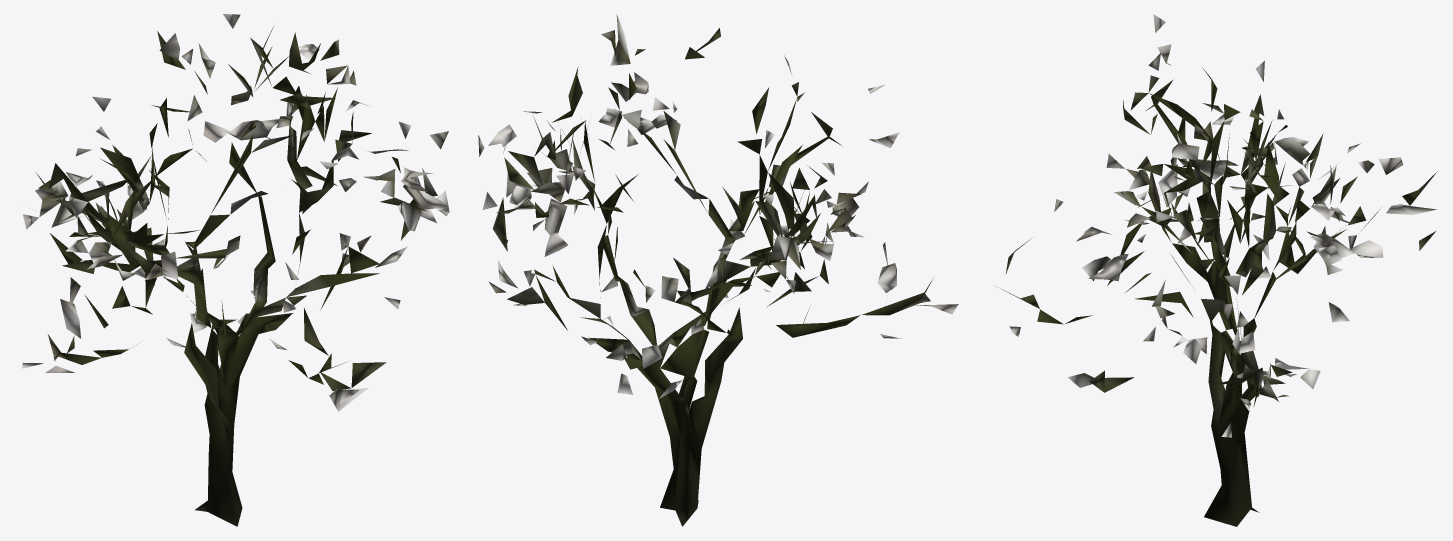
The model's file is peach_l1.glb.
3 views of the same model, side by side, from view 1: azimuth 30°, elevation 25°; view 2: azimuth 150°, elevation 25°; view 3: azimuth 270°, elevation 25° (orthographic). The views are drawn at different scales.
Visible parts, largest first — view 1: trunk, crown; view 2: trunk, crown; view 3: trunk, crown.
Boxes of the visible parts, box(x1,y1,x2,y2) form: trunk: box(36, 26, 437, 526); crown: box(22, 14, 449, 411); trunk: box(492, 28, 933, 526); crown: box(478, 14, 958, 398); trunk: box(1001, 67, 1437, 526); crown: box(1009, 14, 1436, 437).
Bounding box in the file's own units: 5.49 × 5.39 × 4.95.
